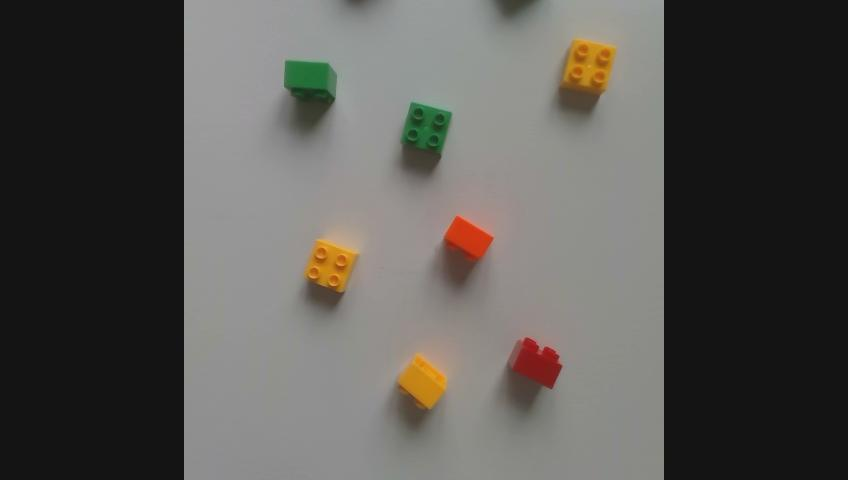2x2_green: (399, 103, 450, 152), (282, 60, 334, 100)
2x2_orange: (442, 216, 492, 260)
2x2_red: (508, 337, 561, 388)
2x2_yellow: (302, 236, 361, 294), (559, 38, 617, 92), (396, 354, 444, 408)
